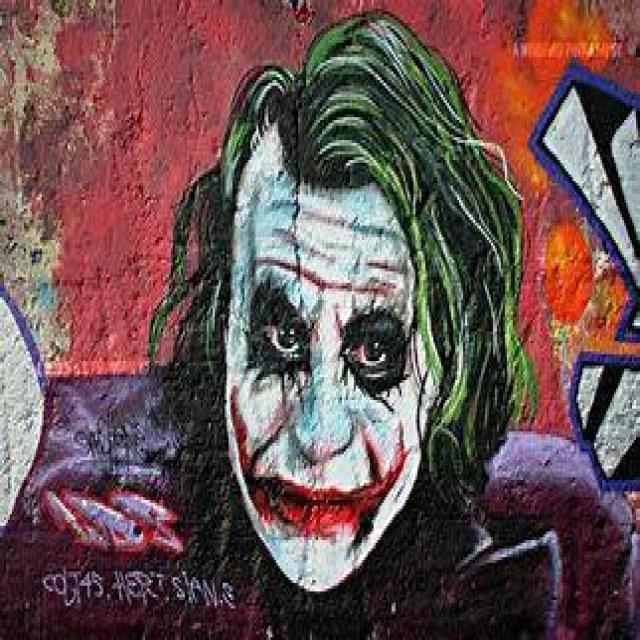nonspitting: (528, 57, 640, 497), (40, 566, 237, 614)
spitting: (148, 11, 534, 592)
